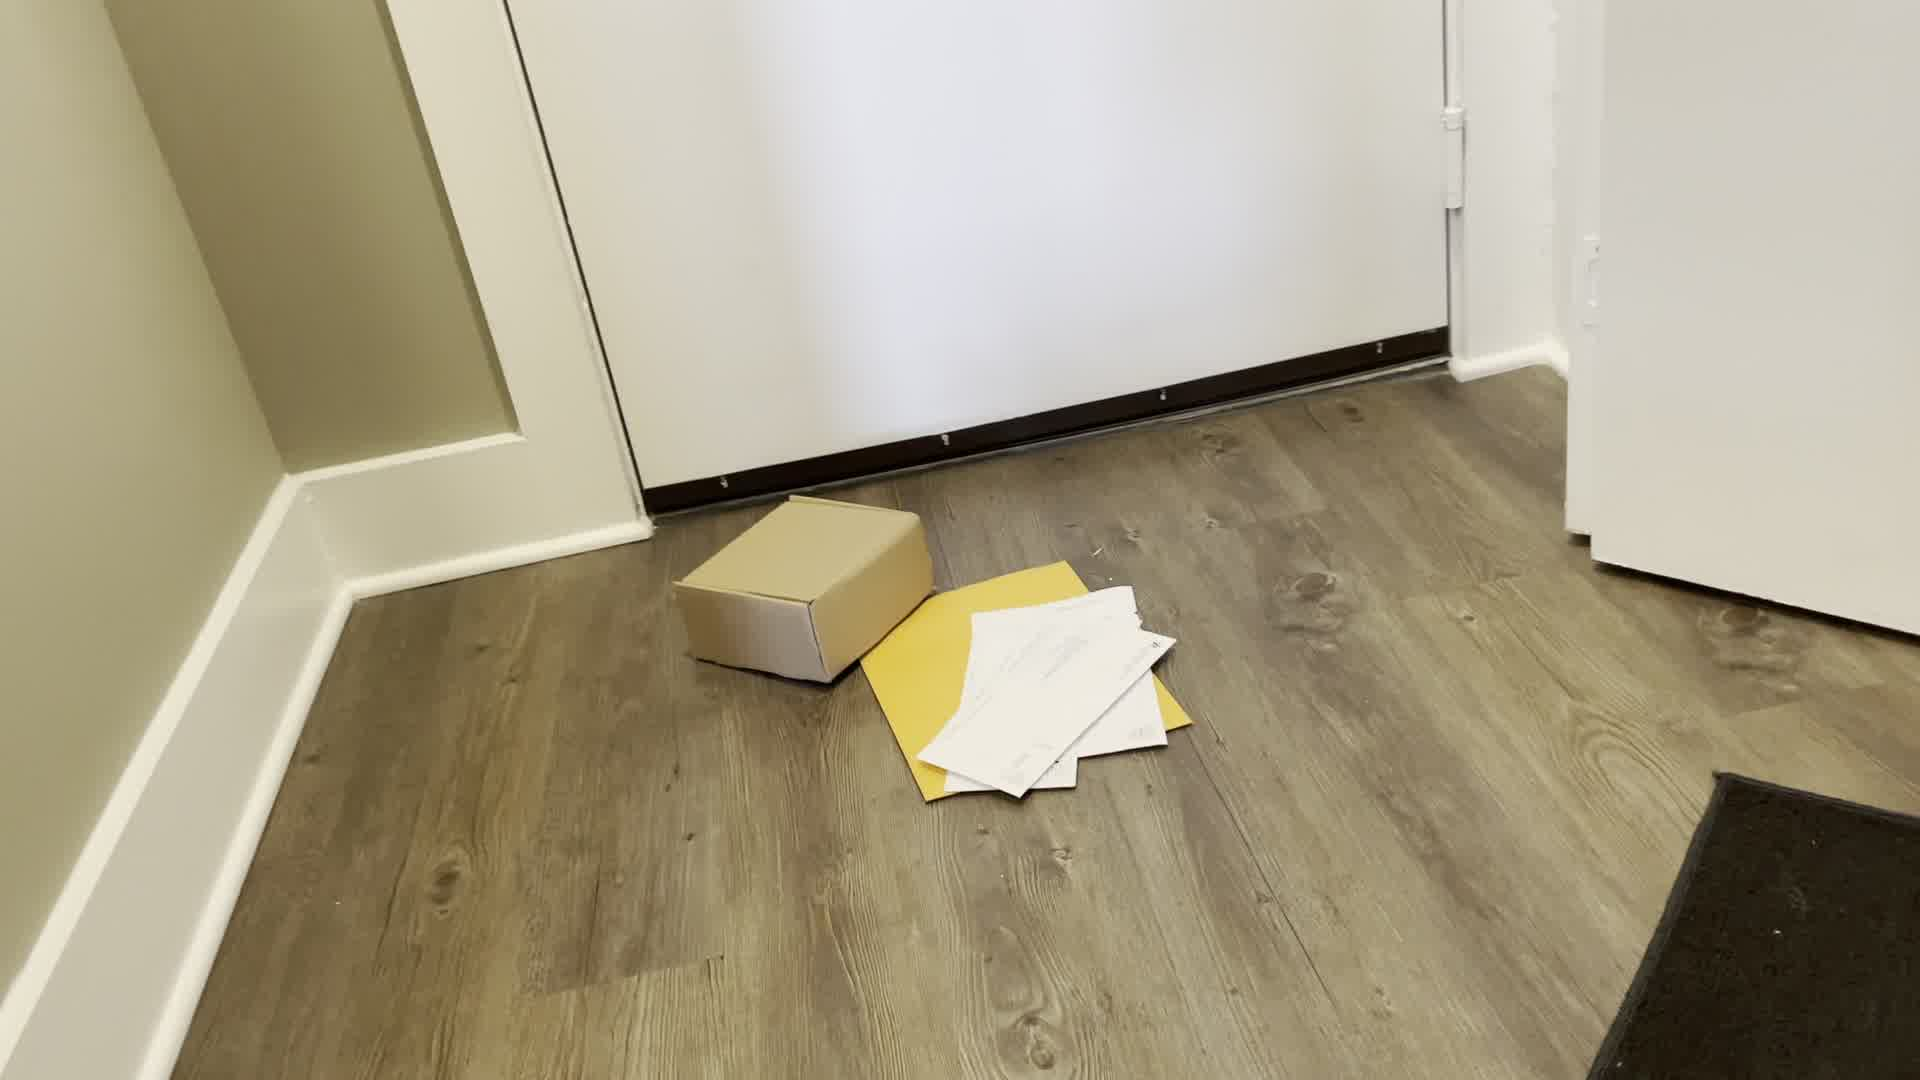box: (666, 496, 938, 688)
envelope: (861, 556, 1207, 812)
